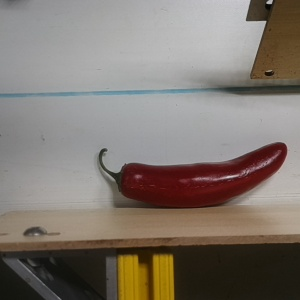Cut Point: (107, 161, 139, 199)
